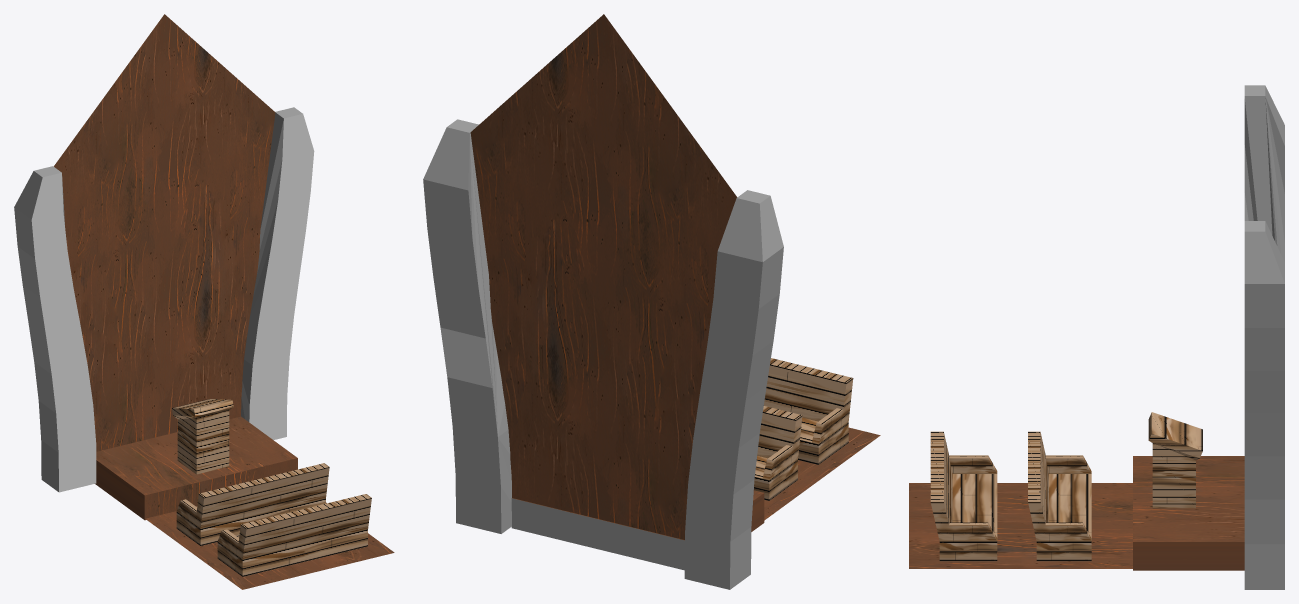
File: chruchinterior.fbx
3 views of the same model, side by side, from view 1: azimuth 30°, elevation 25°; view 2: azimuth 150°, elevation 25°; view 3: azimuth 270°, elevation 25° (orthographic). The views are drawn at different scales.
Parts seen in each view (by area): view 1: polySurface9; view 2: polySurface9; view 3: polySurface9.
Part boxes in pixels (x1=…): polySurface9: x1=14, y1=14, x2=394, y2=589; polySurface9: x1=423, y1=14, x2=880, y2=589; polySurface9: x1=909, y1=85, x2=1284, y2=589.
Bounding box in the file's own units: 7.41 × 11.24 × 7.42.
5 materials, 3 textured.
